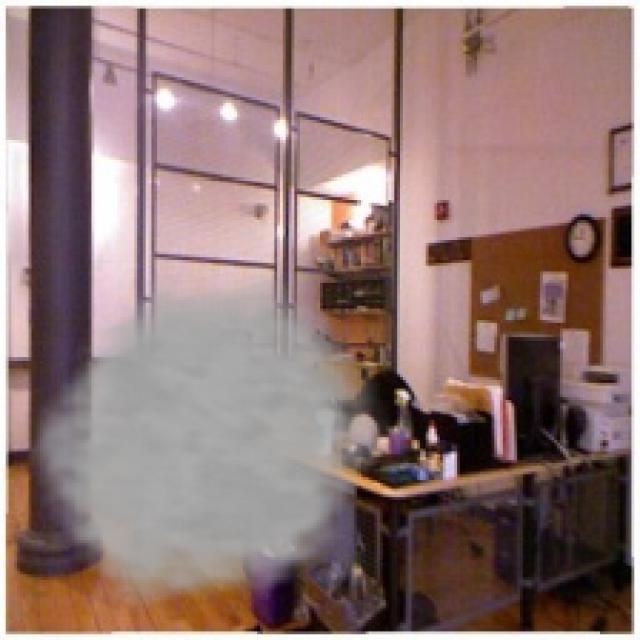Smoke: (20, 274, 400, 620)
